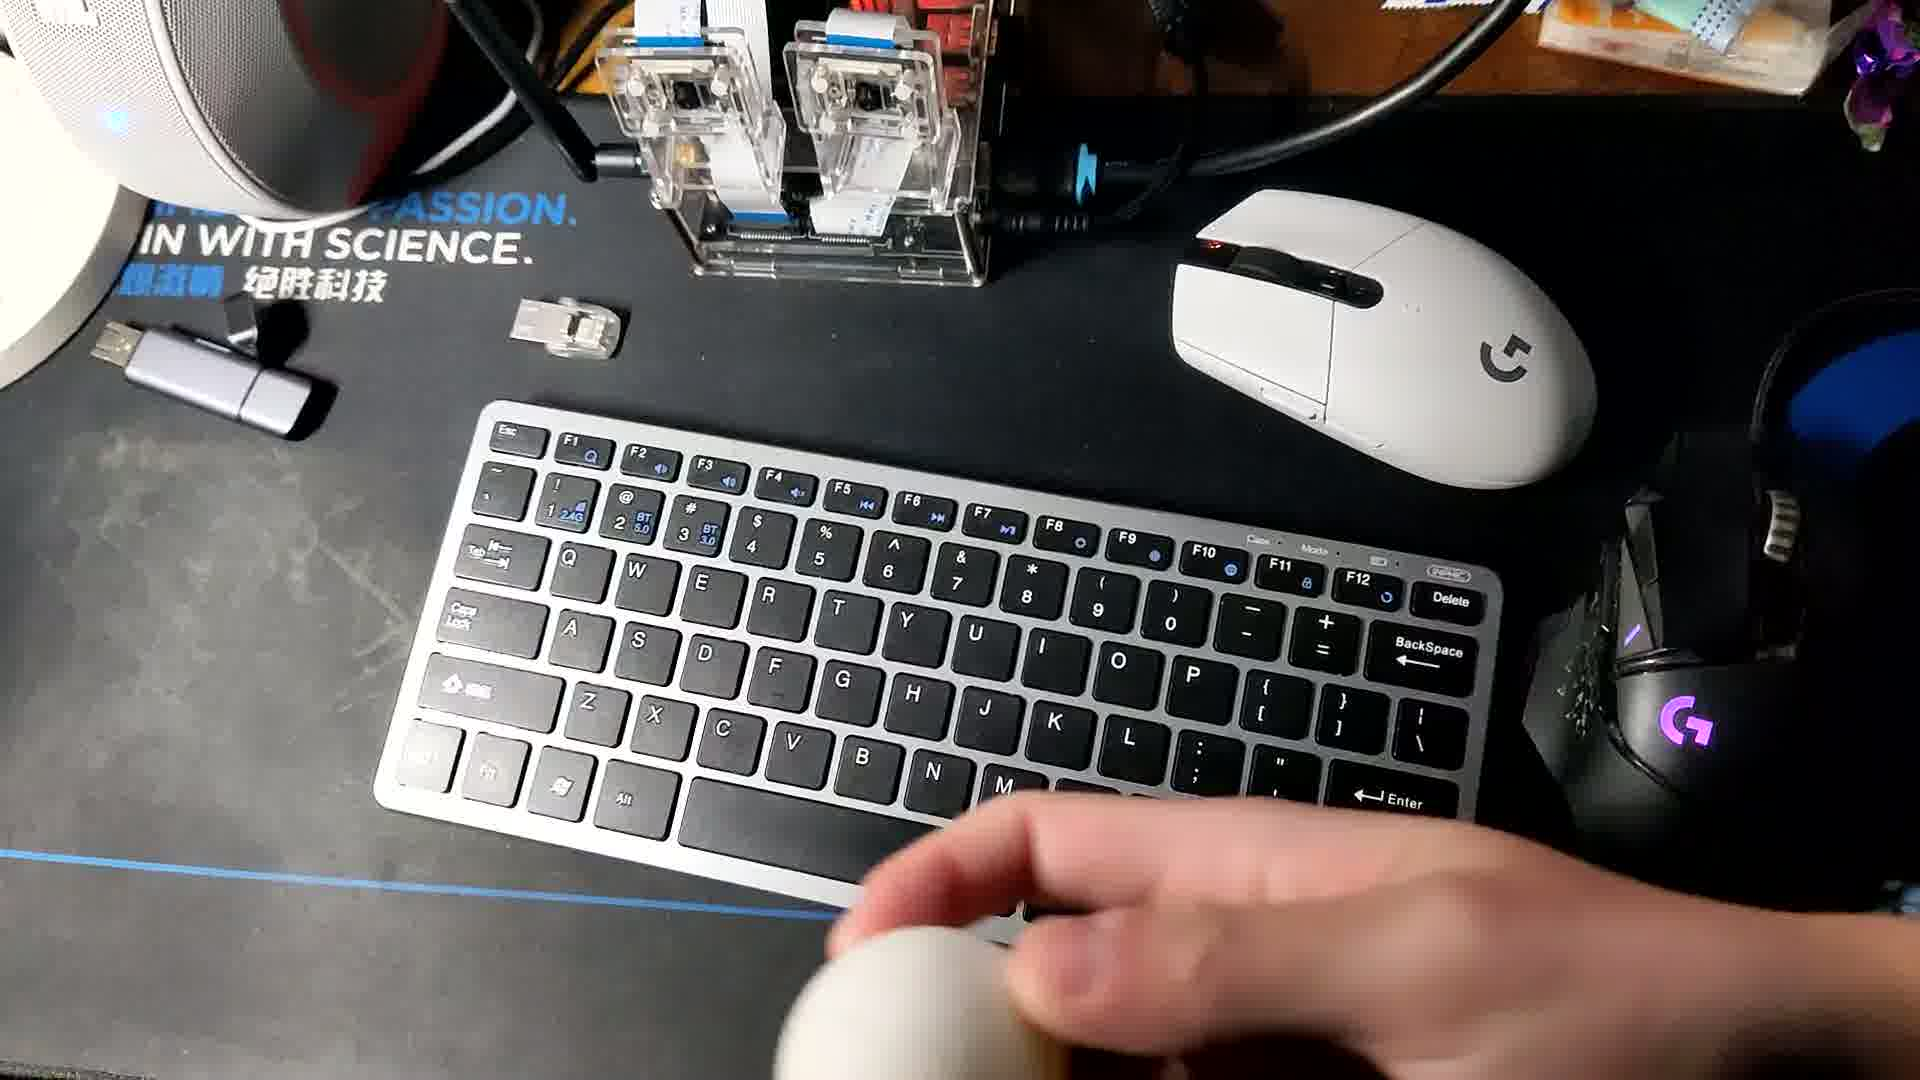Ball: (770, 928, 1073, 1080)
